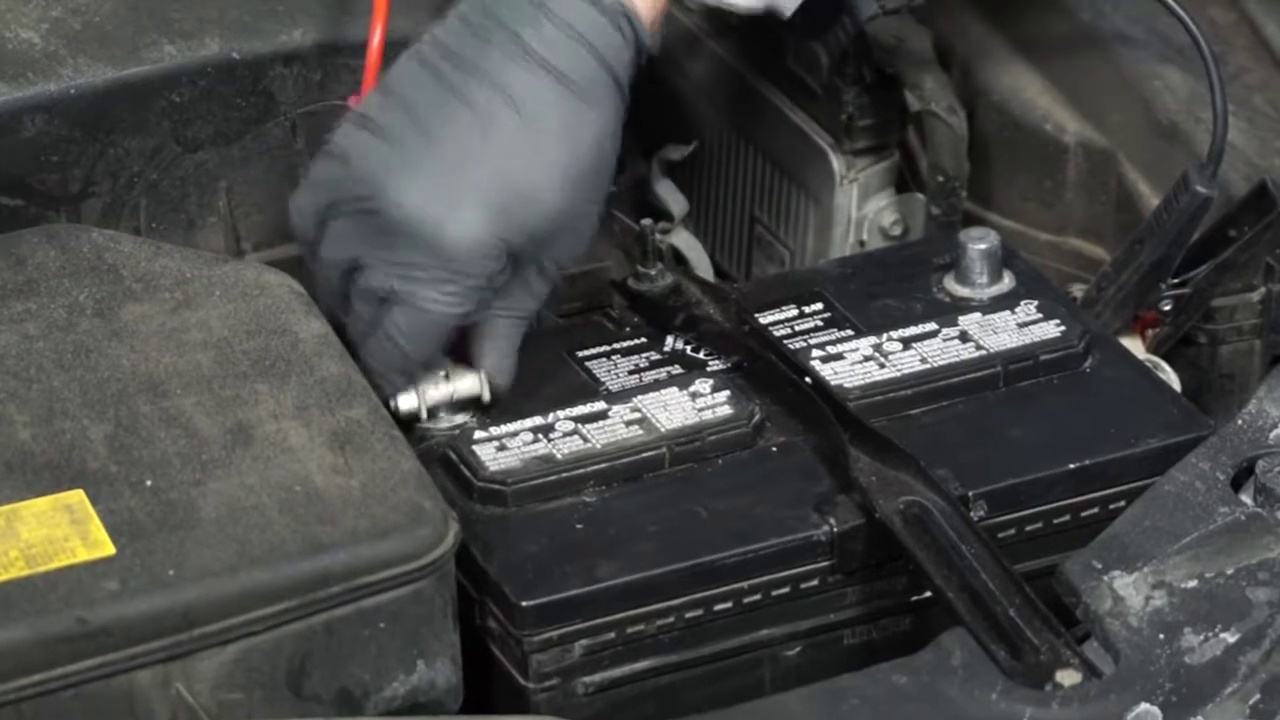battery: (376, 187, 1165, 566)
